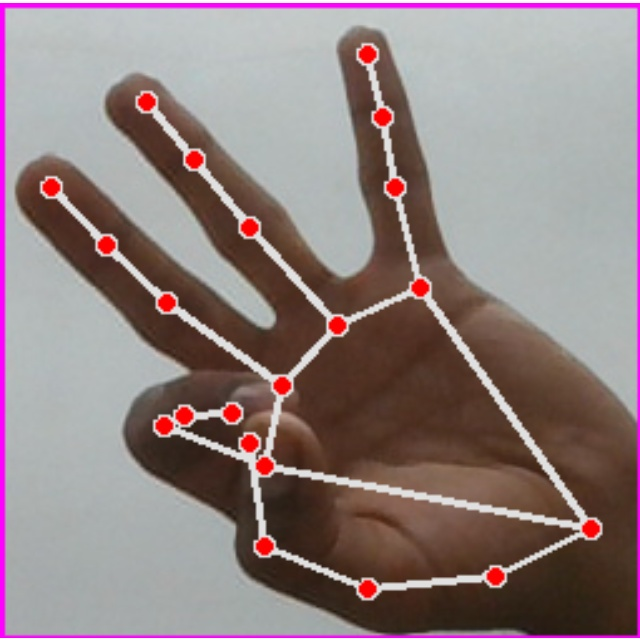F: (0, 3, 640, 638)
